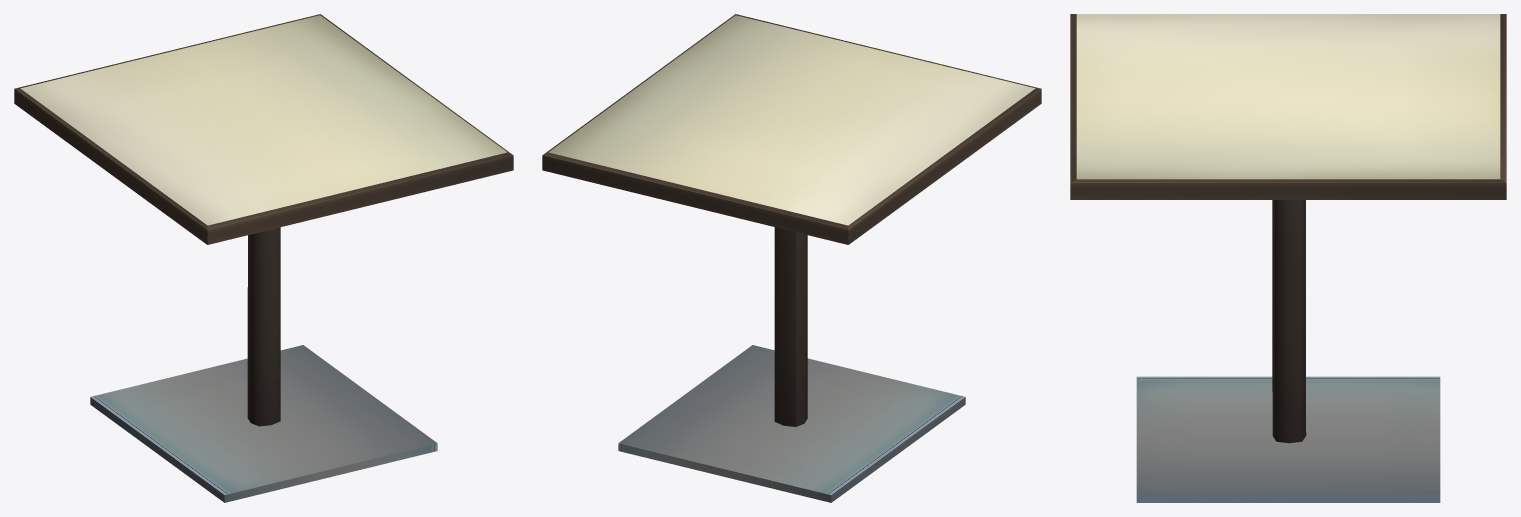
File: table04b.fbx
3 renders of one model, left to right at view 1: azimuth 30°, elevation 25°; view 2: azimuth 150°, elevation 25°; view 3: azimuth 270°, elevation 25°, orthographic. The views are drawn at different scales.
Visible parts, largest first — view 1: table04b; view 2: table04b; view 3: table04b.
Boxes of the visible parts, x1,y1,x2,y2 form: table04b: [14, 14, 513, 502]; table04b: [542, 14, 1041, 502]; table04b: [1070, 14, 1506, 502].
Size of the model in its own units: 0.9274 by 0.8903 by 1.01.
